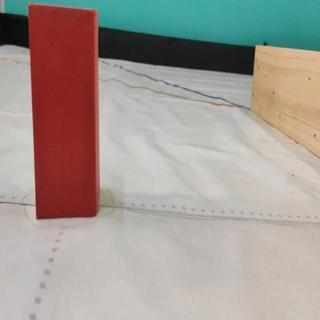redbox: (28, 3, 101, 221)
